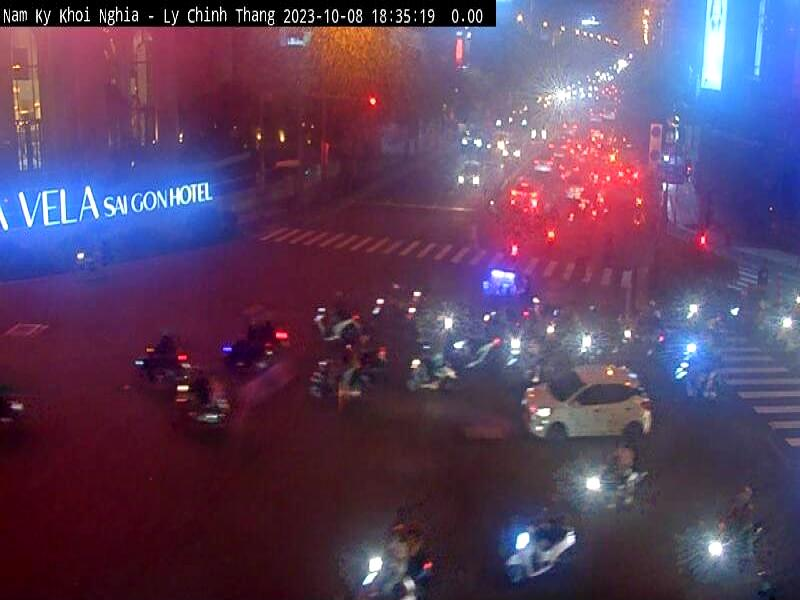car: (507, 351, 658, 456)
